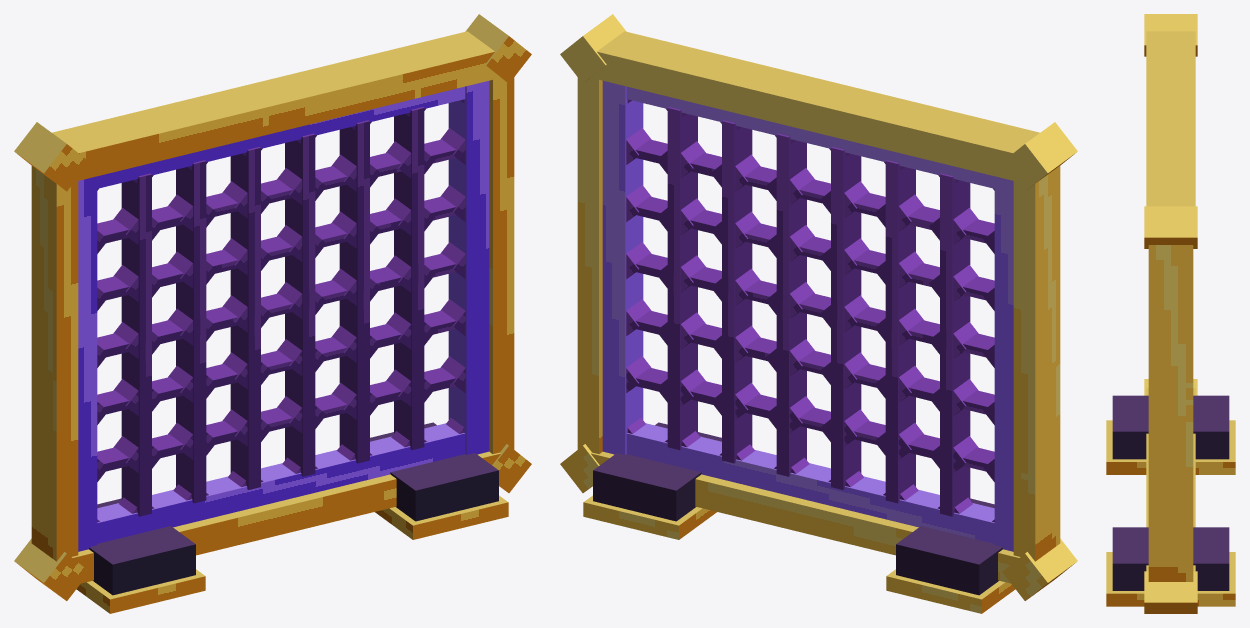
File: connect4.gltf
3 renders of one model, left to right at view 1: azimuth 30°, elevation 25°; view 2: azimuth 150°, elevation 25°; view 3: azimuth 270°, elevation 25°, orthographic. The views are drawn at different scales.
Visible parts, largest first — view 1: gold_trim_top, gold_trim_left, frame_border_right, frame_border_bottom, gold_trim_right, bar_v4, bar_v2, bar_v6, bar_v3, bar_v1, bar_v5, gold_trim_bottom (+15 smaller); view 2: gold_trim_top, gold_trim_left, frame_border_right, frame_border_bottom, gold_trim_right, bar_v4, bar_v2, bar_v6, bar_v3, bar_v1, bar_v5, gold_trim_bottom (+15 smaller); view 3: gold_trim_right, gold_trim_top, foot_a, foot_b, gold_stud_tr, gold_foot_pad_a, gold_stud_br, gold_foot_pad_b, gold_stud_tl, gold_trim_bottom.
Part boxes in pixels (box(x1,y1,x2,y2)): gold_trim_top: box(52, 31, 500, 181); gold_trim_left: box(31, 166, 78, 561); frame_border_right: box(448, 81, 489, 454); frame_border_bottom: box(97, 423, 465, 543); gold_trim_right: box(489, 77, 514, 453); bar_v4: box(285, 133, 315, 476); bar_v2: box(176, 160, 206, 503); bar_v6: box(394, 107, 424, 449); bar_v3: box(230, 147, 260, 489); bar_v1: box(121, 173, 151, 516); bar_v5: box(339, 120, 369, 463); gold_trim_bottom: box(71, 451, 500, 583); gold_trim_top: box(591, 31, 1039, 181); gold_trim_left: box(1013, 166, 1060, 561); frame_border_right: box(602, 81, 643, 454); frame_border_bottom: box(626, 423, 994, 543); gold_trim_right: box(577, 77, 602, 453); bar_v4: box(776, 133, 806, 476); bar_v2: box(885, 160, 915, 503); bar_v6: box(667, 107, 697, 449); bar_v3: box(831, 147, 861, 489); bar_v1: box(940, 173, 970, 516); bar_v5: box(722, 120, 752, 463); gold_trim_bottom: box(591, 451, 1020, 583); gold_trim_right: box(1148, 245, 1193, 581); gold_trim_top: box(1146, 31, 1195, 206); foot_a: box(1112, 395, 1229, 459); foot_b: box(1112, 527, 1229, 590); gold_stud_tr: box(1144, 206, 1197, 248); gold_foot_pad_a: box(1106, 420, 1235, 474); gold_stud_br: box(1144, 571, 1197, 613); gold_foot_pad_b: box(1106, 552, 1235, 606); gold_stud_tl: box(1144, 14, 1197, 56); gold_trim_bottom: box(1146, 388, 1195, 571).
Bounding box in the file's own units: 0.6445 × 0.5804 × 0.1662.
4 materials, 4 textured.
